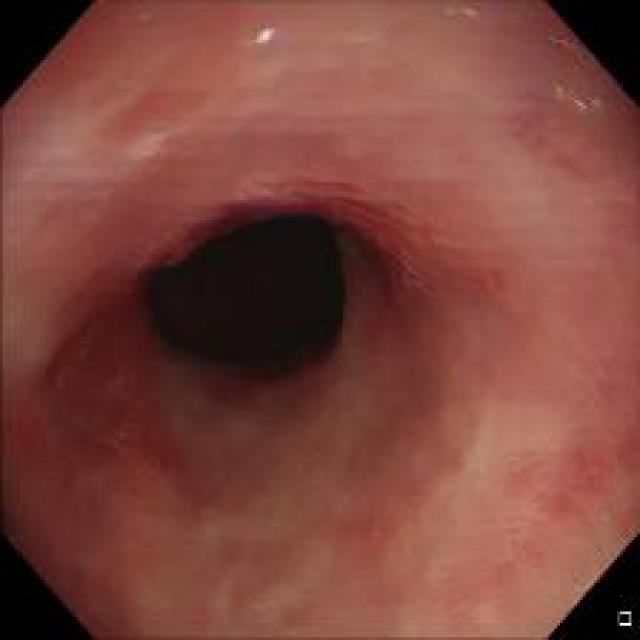blur: (1, 1, 634, 632)
color misalignment: (550, 81, 605, 118), (542, 30, 588, 55), (244, 24, 276, 46), (440, 4, 480, 20), (132, 9, 154, 25)
contrast: (130, 196, 340, 376)
